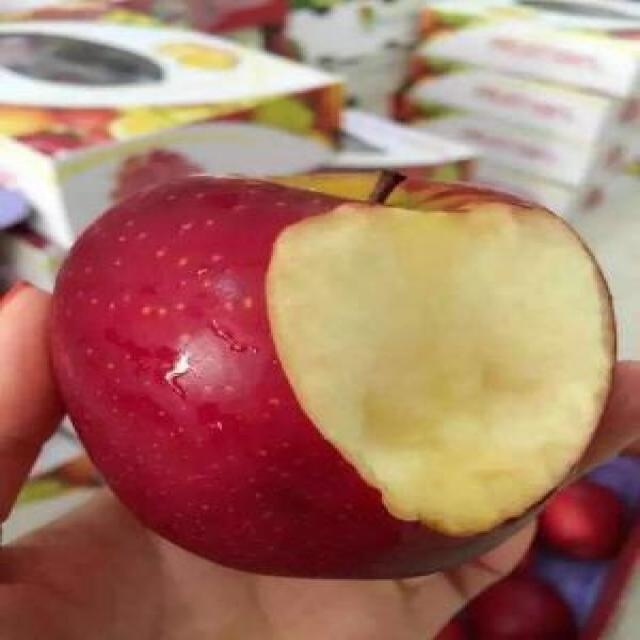Rotten: (66, 176, 624, 574)
